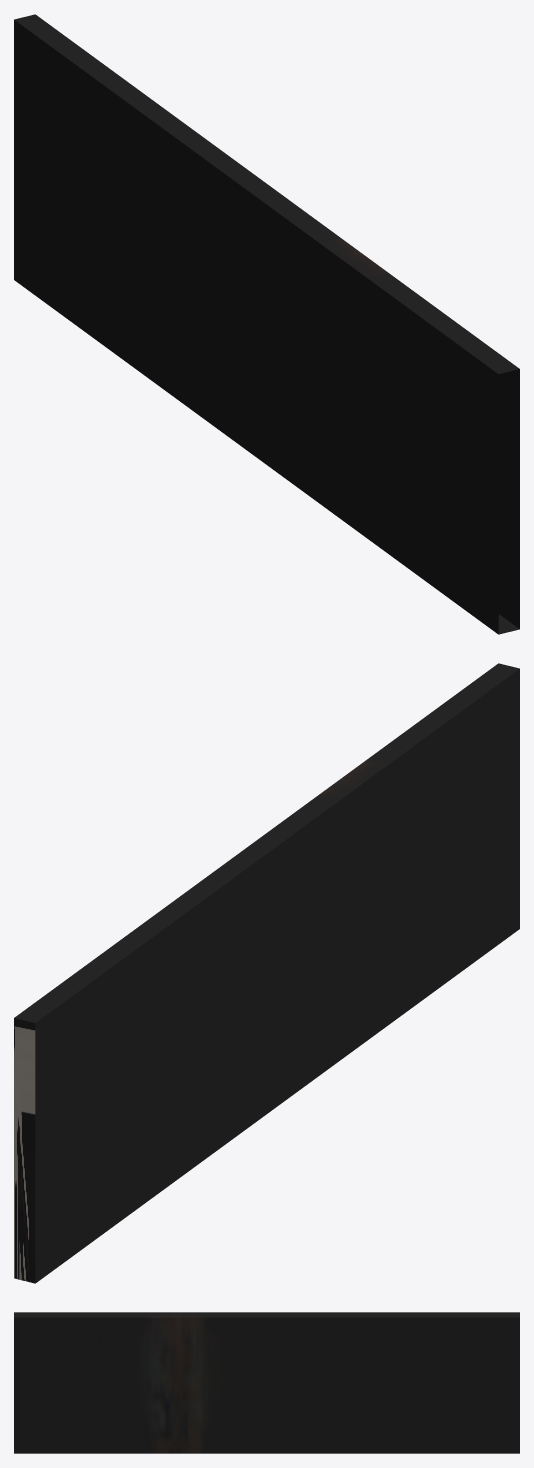
Rendered from ConveyorBelt_effector_short.fbx.
The picture shows the model from 3 angles, top to bottom: view 1: azimuth 30°, elevation 25°; view 2: azimuth 150°, elevation 25°; view 3: azimuth 270°, elevation 25°; orthographic projection. The views are drawn at different scales.
Parts seen in each view (by area): view 1: ConveyorBelt_effector.001; view 2: ConveyorBelt_effector.001; view 3: ConveyorBelt_effector.001.
Part boxes in pixels (box(x1,y1,x2,y2)): ConveyorBelt_effector.001: box(14, 14, 519, 634); ConveyorBelt_effector.001: box(14, 663, 519, 1283); ConveyorBelt_effector.001: box(14, 1312, 519, 1453).
Size of the model in its own units: 22.86 by 0.5844 by 6.78.
